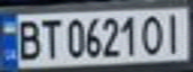0: (63, 15, 87, 58)
1: (118, 12, 142, 57)
2: (100, 14, 121, 58)
6: (81, 13, 103, 60)
B: (12, 16, 42, 61)
I: (160, 10, 190, 54)
O: (139, 11, 166, 56)
T: (36, 16, 63, 60)
